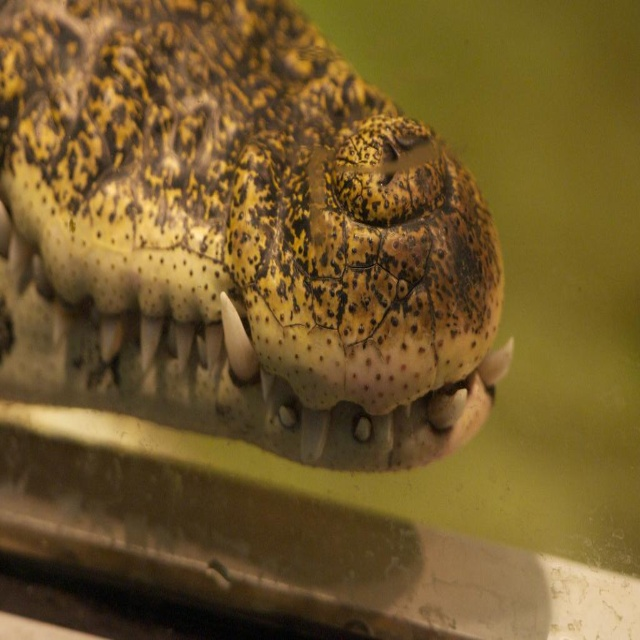Crocodile: (0, 0, 514, 473)
